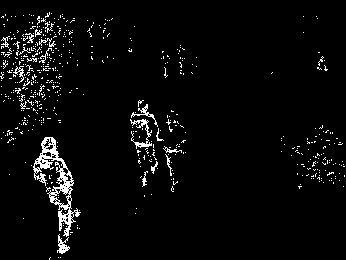person: (31, 135, 81, 255), (128, 99, 162, 185), (157, 108, 187, 191)
